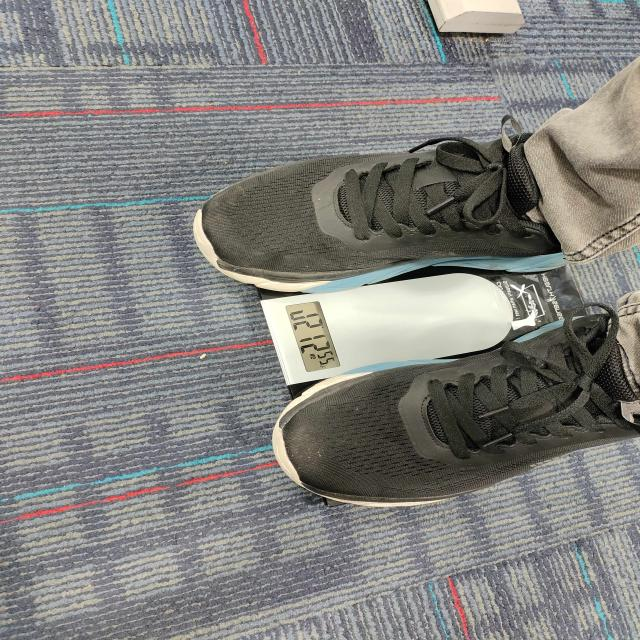ws: (260, 275, 513, 393)
